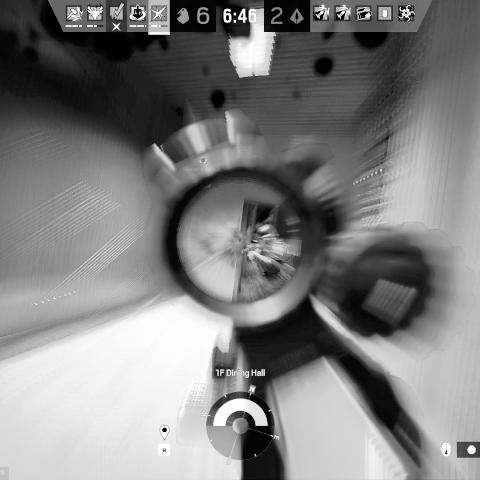Character: (240, 222, 296, 298)
Friend_label: (185, 156, 221, 172)
Head: (257, 224, 277, 244)
